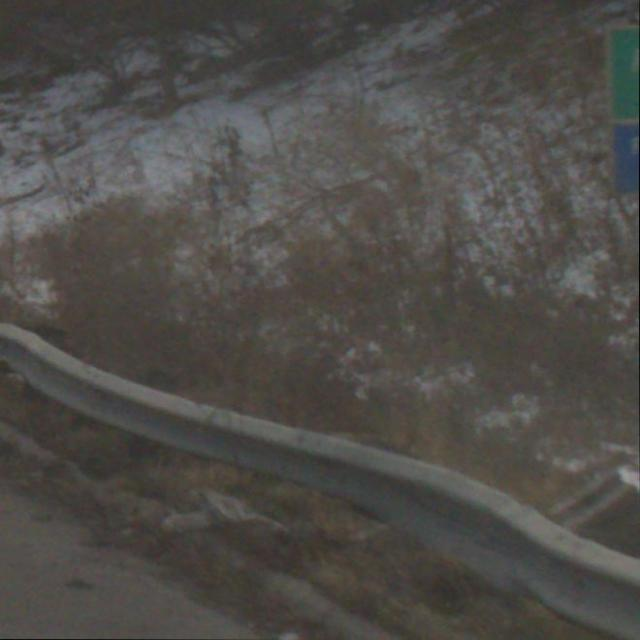Guard rail: (0, 319, 640, 640), (611, 24, 640, 195)
